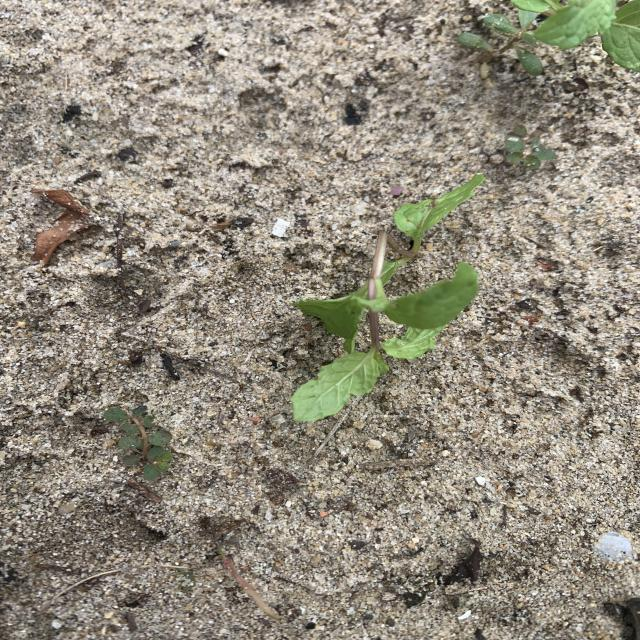crop: (291, 175, 485, 422), (511, 0, 640, 72), (539, 16, 539, 16)
weed: (102, 406, 173, 480), (482, 9, 543, 76), (503, 125, 559, 168), (458, 33, 492, 51)
